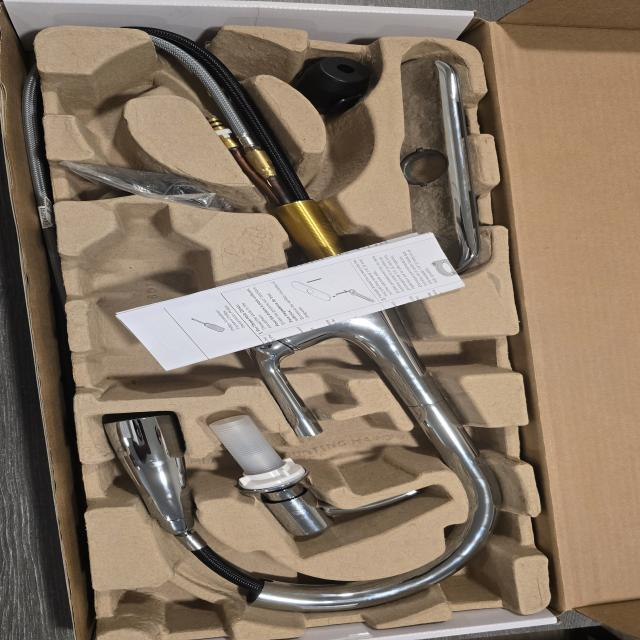1o: (103, 25, 503, 612)
2: (207, 415, 421, 539)
3m: (73, 203, 224, 400)
4o: (400, 59, 480, 274)
5: (291, 56, 374, 115)
6m: (56, 53, 159, 133)
7: (57, 161, 242, 211)
8: (114, 231, 468, 373)
